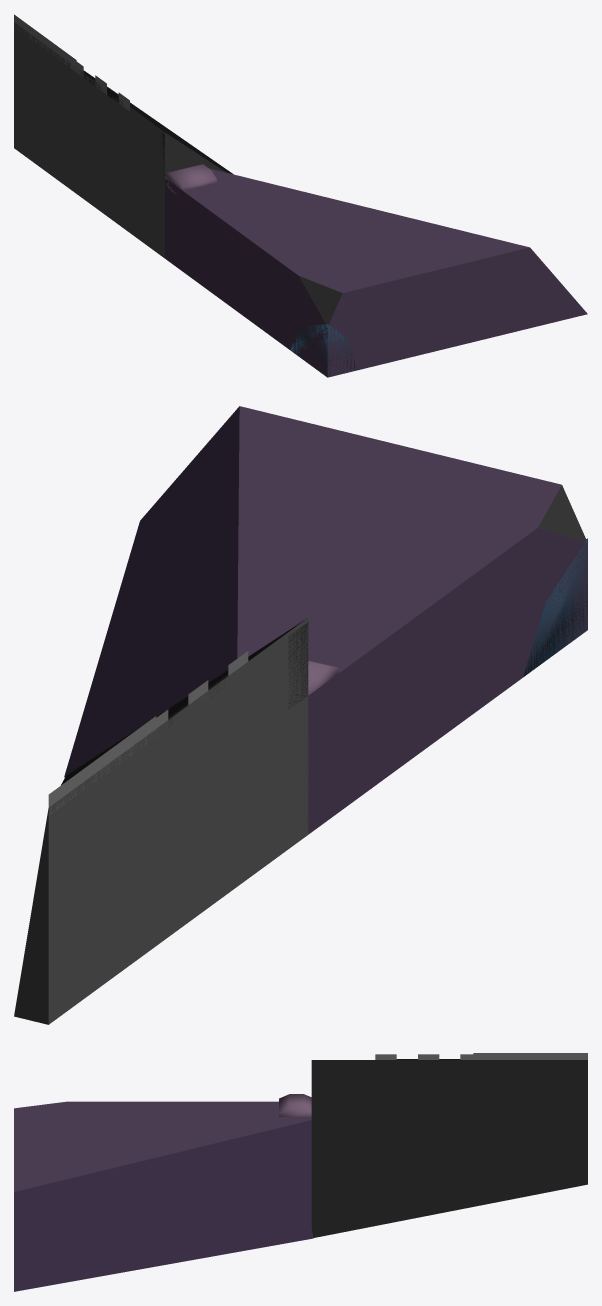
Rendered from newshb-8.glb.
3 views of the same model, one above another, from view 1: azimuth 30°, elevation 25°; view 2: azimuth 150°, elevation 25°; view 3: azimuth 270°, elevation 25° (orthographic). The views are drawn at different scales.
Parts seen in each view (by area): view 1: newshb-8; view 2: newshb-8; view 3: newshb-8.
Boxes of the visible parts, left/top/right/bottom form: newshb-8: left=14, top=14, right=587, bottom=377; newshb-8: left=14, top=406, right=587, bottom=1024; newshb-8: left=14, top=1053, right=587, bottom=1291.
Size of the model in its own units: 1.08 by 0.53 by 2.25.
